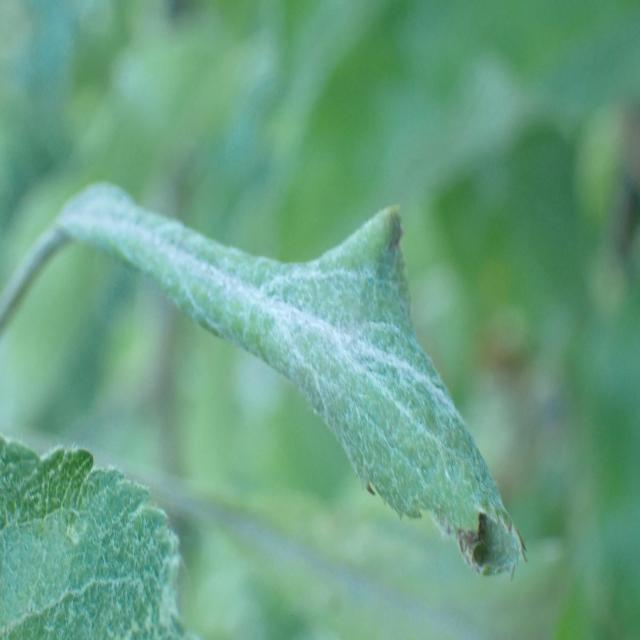Powdery_mildew: (50, 165, 535, 582), (0, 406, 227, 640)
